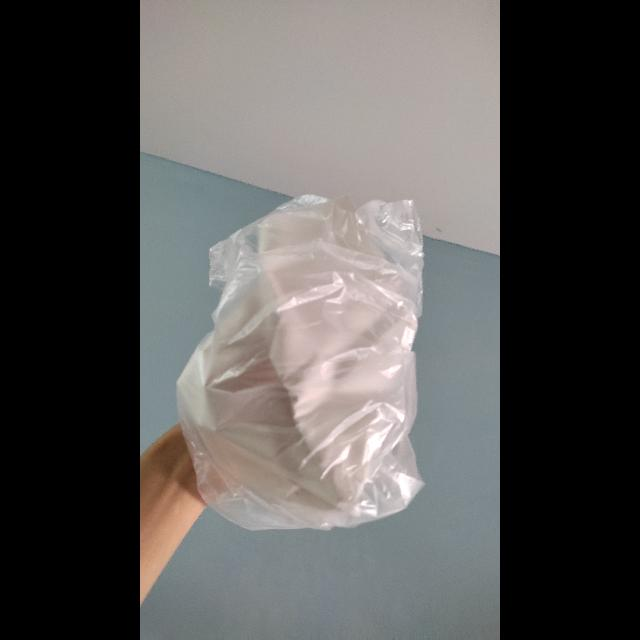plastic_bag: (177, 192, 426, 534)
